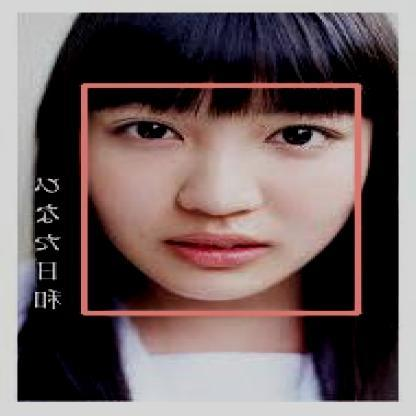without_mask: (83, 85, 357, 312)
